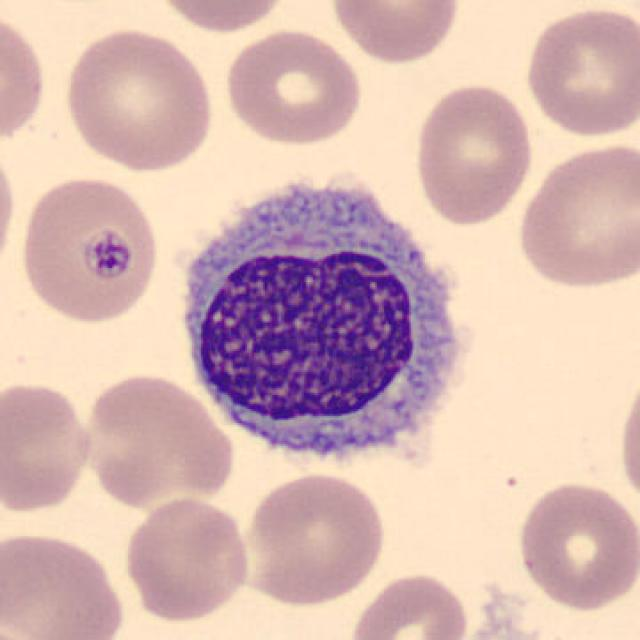Monocyte: (166, 160, 484, 487)
Platelets: (81, 226, 136, 284)
RBC: (59, 23, 217, 174), (80, 368, 238, 512), (16, 173, 162, 326), (236, 469, 390, 608), (514, 137, 638, 291), (411, 80, 537, 228), (220, 25, 366, 148), (119, 494, 254, 626), (512, 478, 638, 614), (521, 4, 638, 141), (0, 527, 130, 640), (0, 377, 96, 517), (345, 567, 475, 640), (327, 0, 464, 67), (0, 5, 50, 154), (146, 0, 297, 35), (613, 361, 640, 515), (0, 139, 20, 284)
